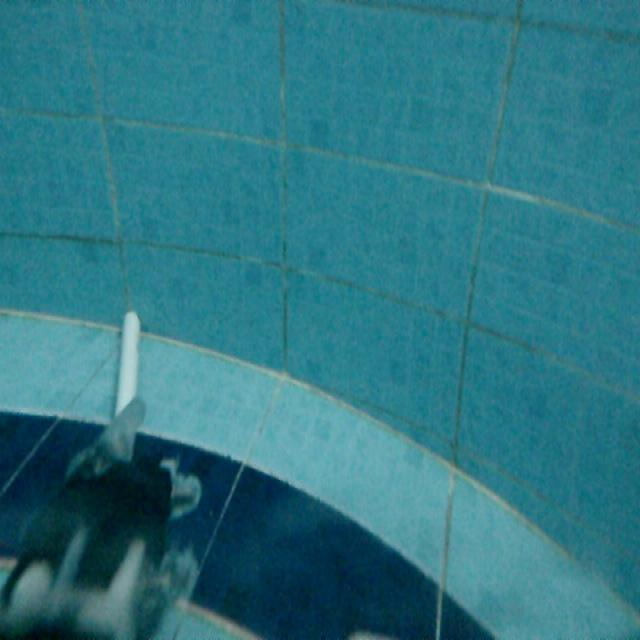Cube: (114, 307, 142, 413)
